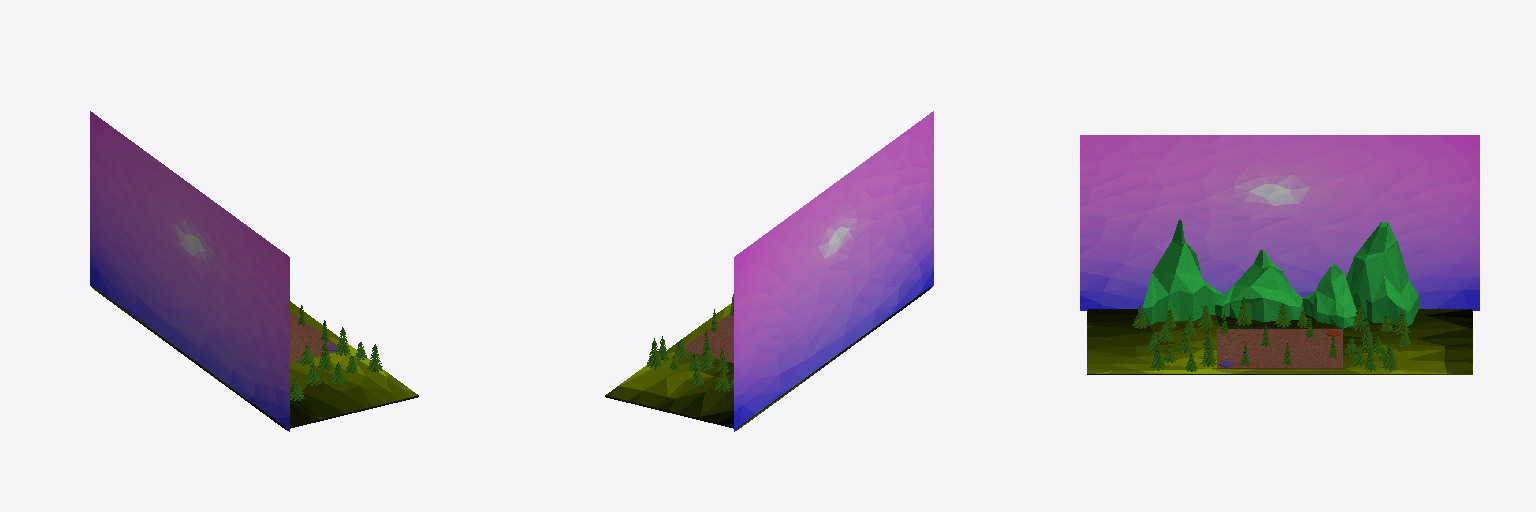
The picture shows the model from 3 angles: view 1: azimuth 30°, elevation 25°; view 2: azimuth 150°, elevation 25°; view 3: azimuth 270°, elevation 25°; orthographic projection.
Visible parts, largest first — view 1: pCube9, pCube1, pCube8; view 2: pCube9, pCube1, pCube8; view 3: pCube9, pCube1, pCube4, pCube8, pCube5, pCube2, pCube3.
Boxes of the visible parts, x1,y1,x2,y2 form: pCube9: [90, 111, 289, 431]; pCube1: [93, 287, 418, 429]; pCube8: [290, 311, 337, 362]; pCube9: [734, 111, 933, 431]; pCube1: [605, 287, 930, 429]; pCube8: [684, 314, 733, 362]; pCube9: [1080, 135, 1479, 310]; pCube1: [1087, 309, 1472, 374]; pCube4: [1346, 222, 1418, 325]; pCube8: [1217, 329, 1342, 368]; pCube5: [1142, 219, 1222, 324]; pCube2: [1215, 249, 1303, 321]; pCube3: [1302, 264, 1357, 328].
Size of the model in its own units: 57.85 by 73.03 by 150.
Materials: 8 (4 with a texture image).